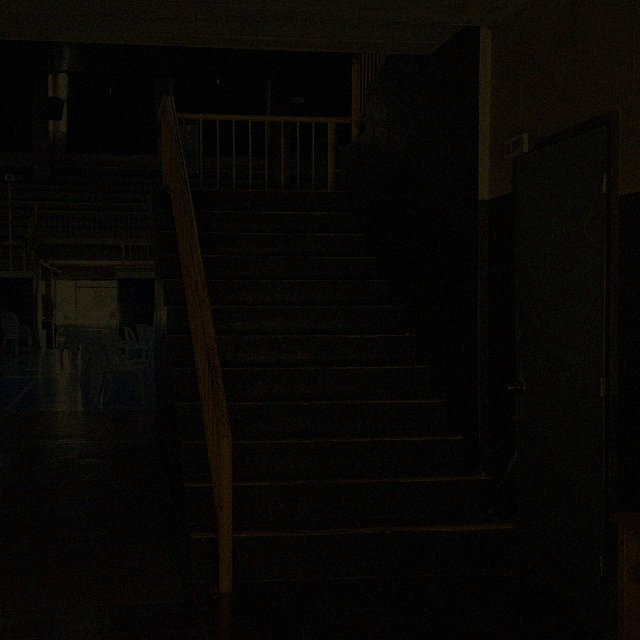stair: (197, 201, 513, 581)
